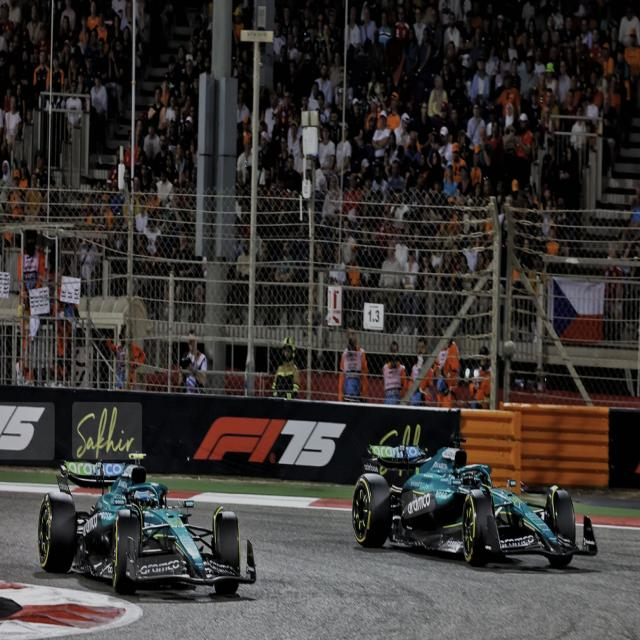Aston Martin: (350, 430, 600, 574), (37, 452, 258, 604)
